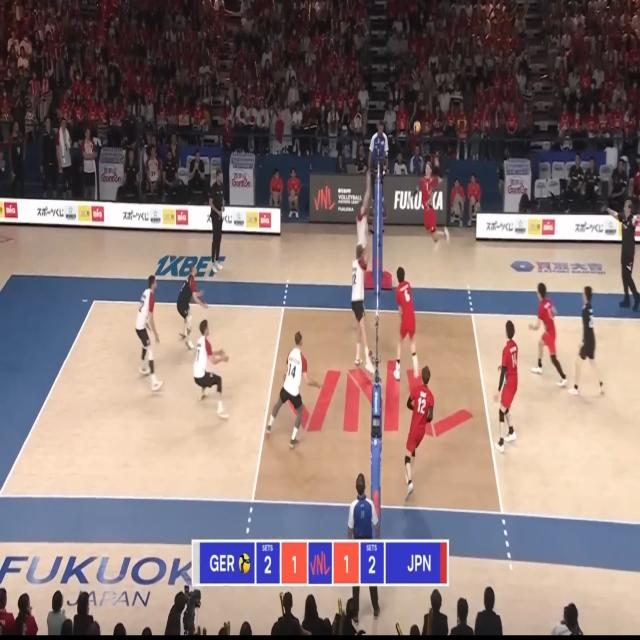ball: (414, 121, 421, 134)
